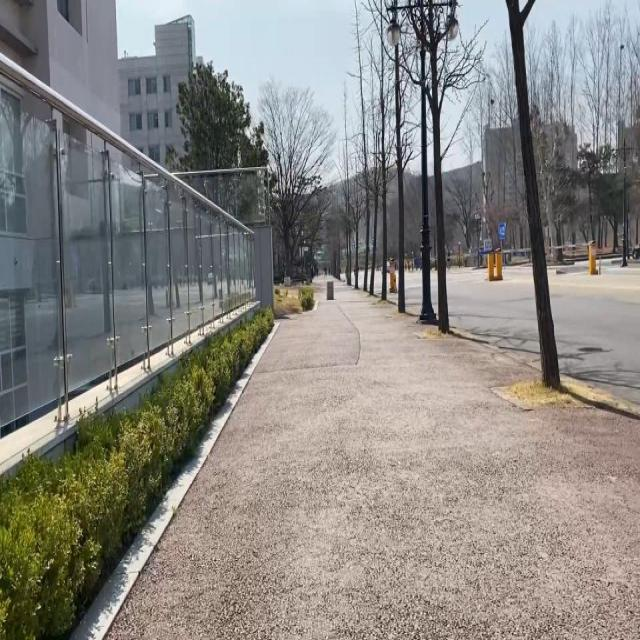sidewalk: (108, 284, 640, 639)
